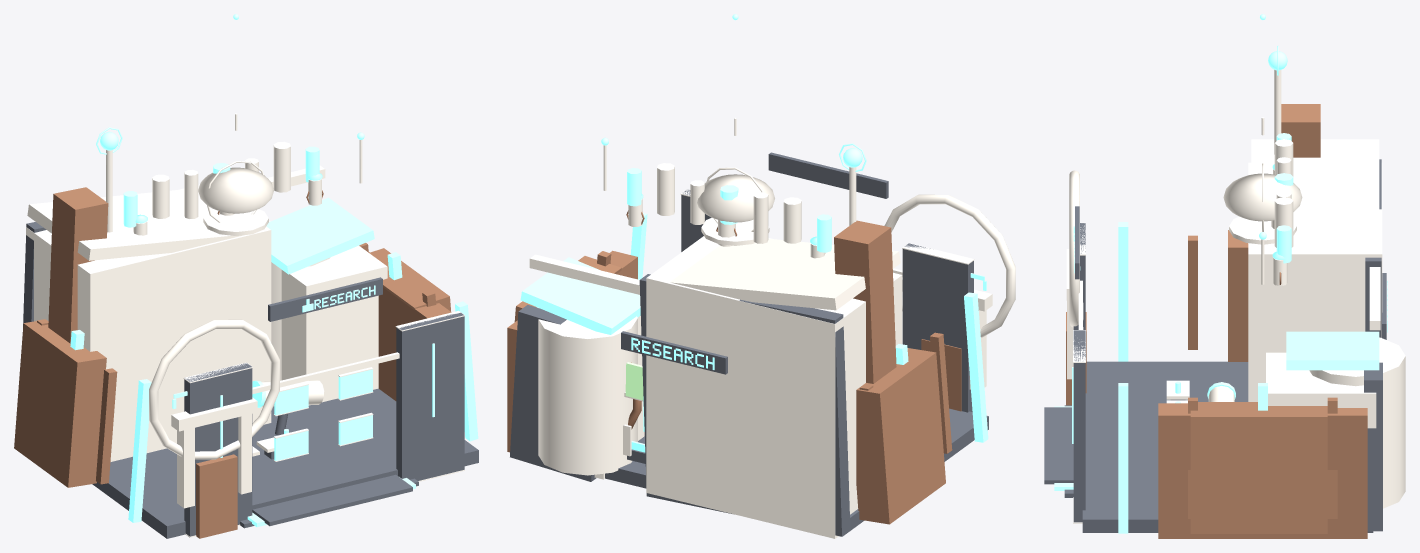
File: research-lab.glb
The picture shows the model from 3 angles, left to right: view 1: azimuth 30°, elevation 25°; view 2: azimuth 150°, elevation 25°; view 3: azimuth 270°, elevation 25°; orthographic projection. The views are drawn at different scales.
Parts seen in each view (by area): view 1: research-lab:far:surface:0, research-lab:near:surface:0, research-lab:near:surface:1, research-lab:near:surface:2, research-lab:near:surface:3, research-lab:city-identity:reactor-core; view 2: research-lab:far:surface:0, research-lab:near:surface:1, research-lab:near:surface:2, research-lab:near:surface:0, research-lab:city-identity:reactor-core, research-lab:near:surface:3, research-lab:near:surface:4; view 3: research-lab:near:surface:1, research-lab:near:surface:0, research-lab:near:surface:2, research-lab:far:surface:0, research-lab:near:surface:3, research-lab:city-identity:reactor-core.
Boxes of the visible parts, box(x1,y1,x2,y2) form: research-lab:far:surface:0: box(26, 184, 387, 461); research-lab:near:surface:0: box(23, 222, 478, 538); research-lab:near:surface:1: box(14, 187, 451, 538); research-lab:near:surface:2: box(27, 113, 464, 537); research-lab:near:surface:3: box(70, 14, 478, 527); research-lab:city-identity:reactor-core: box(269, 221, 330, 380); research-lab:far:surface:0: box(537, 236, 902, 538); research-lab:near:surface:1: box(507, 210, 961, 524); research-lab:near:surface:2: box(529, 117, 1015, 456); research-lab:near:surface:0: box(510, 152, 988, 536); research-lab:city-identity:reactor-core: box(538, 316, 637, 475); research-lab:near:surface:3: box(520, 14, 988, 452); research-lab:near:surface:4: box(625, 362, 643, 400); research-lab:near:surface:1: box(1066, 104, 1367, 538); research-lab:near:surface:0: box(1044, 159, 1386, 532); research-lab:near:surface:2: box(1066, 70, 1380, 523); research-lab:far:surface:0: box(1248, 162, 1382, 428); research-lab:near:surface:3: box(1054, 14, 1387, 533); research-lab:city-identity:reactor-core: box(1309, 337, 1405, 508).
Size of the model in its own units: 21.48 by 23.73 by 17.39.
